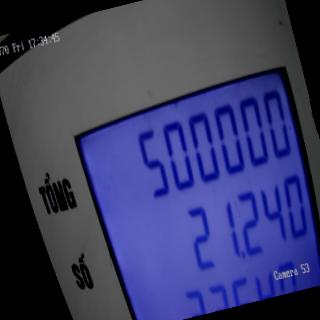screen: (63, 56, 320, 320)
